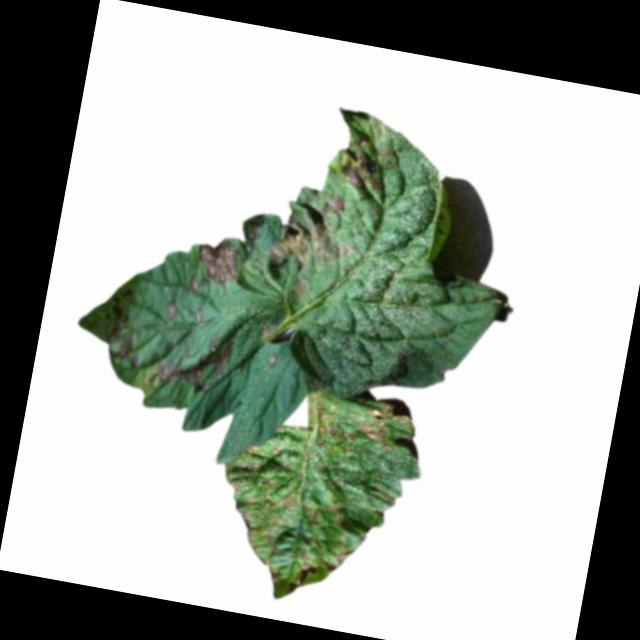Early_blight: (266, 182, 359, 277), (150, 316, 238, 398), (338, 131, 401, 194), (195, 233, 243, 289), (360, 401, 396, 445), (284, 550, 315, 598), (318, 540, 354, 576), (115, 327, 143, 370), (315, 420, 358, 444)
